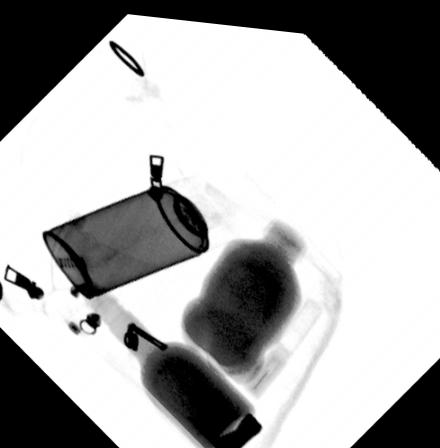Sprayer: (40, 165, 242, 298)
